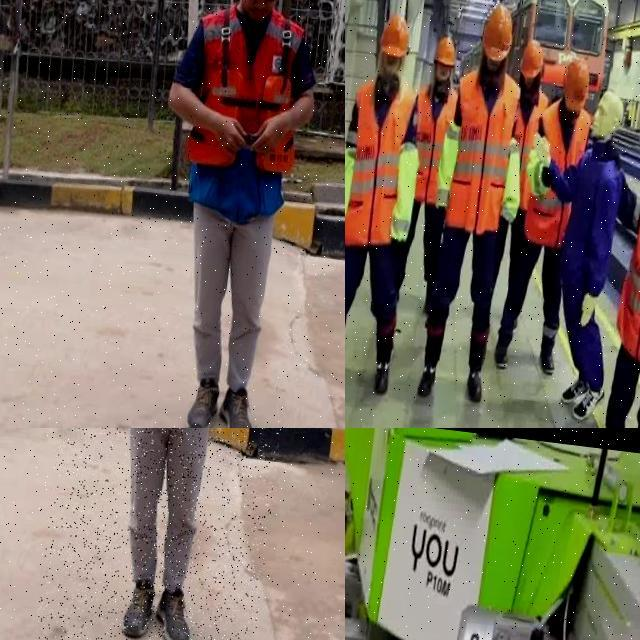boots: (148, 584, 197, 640), (119, 575, 157, 640), (182, 373, 223, 428), (215, 381, 260, 428), (570, 375, 608, 428), (527, 332, 565, 382), (552, 362, 594, 404)
helmet: (478, 5, 516, 64), (559, 56, 592, 117), (377, 12, 412, 61), (517, 38, 546, 81), (432, 35, 457, 70)
vest: (180, 0, 311, 215), (442, 68, 520, 236), (345, 77, 417, 252), (524, 96, 594, 252), (406, 76, 460, 203), (503, 87, 548, 210), (611, 193, 640, 372)
